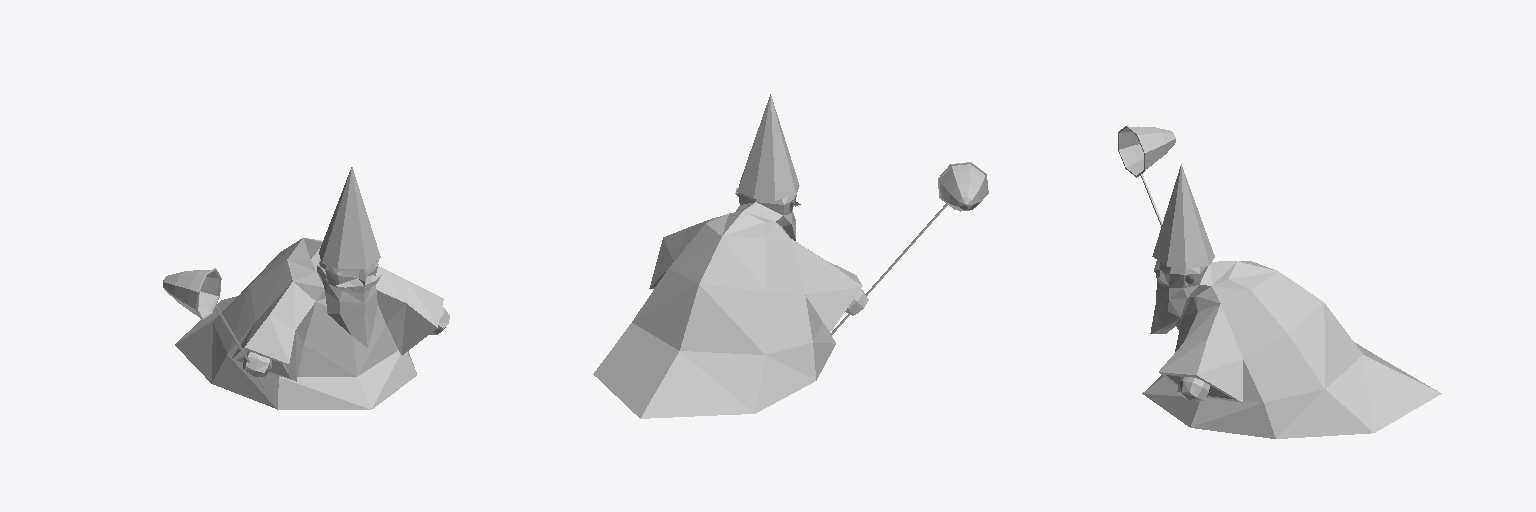
Rendered from Gnome.obj.
3 views of the same model, side by side, from view 1: azimuth 30°, elevation 25°; view 2: azimuth 150°, elevation 25°; view 3: azimuth 270°, elevation 25° (orthographic).
Visible parts, largest first — view 1: gnome; view 2: gnome; view 3: gnome.
Boxes of the visible parts, x1,y1,x2,y2 form: gnome: [163, 167, 449, 409]; gnome: [593, 94, 988, 418]; gnome: [1118, 125, 1441, 438].
Bounding box in the file's own units: 1.34 × 0.9908 × 1.27.